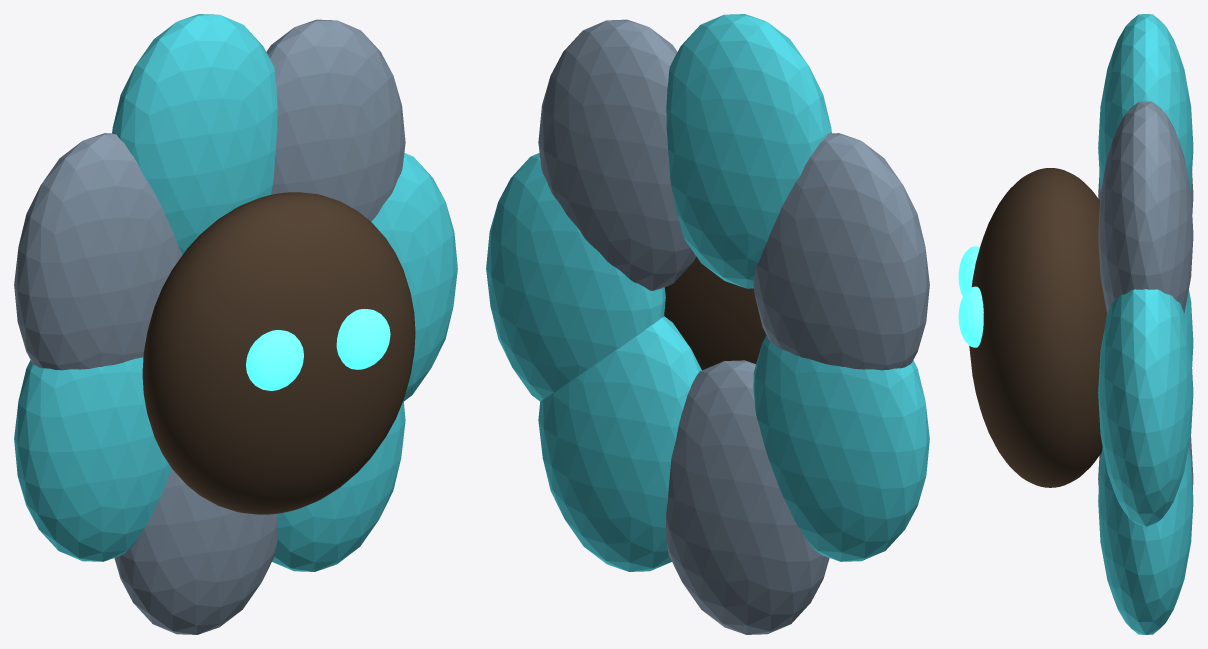
The model's file is aberration_v8.glb.
The picture shows the model from 3 angles, left to right: view 1: azimuth 30°, elevation 25°; view 2: azimuth 150°, elevation 25°; view 3: azimuth 270°, elevation 25°; orthographic projection. The views are drawn at different scales.
Parts seen in each view (by area): view 1: MIRROR_CORE_SECONDARY, MIRROR_SHARD_PRIMARY.001, MIRROR_SHARD_ACCENT.001, MIRROR_SHARD_ACCENT.002, MIRROR_SHARD_PRIMARY, MIRROR_SHARD_PRIMARY.002, MIRROR_SHARD_ACCENT, MIRROR_SHARD_ACCENT.003, EYE_EMISSIVE, EYE_EMISSIVE.001; view 2: MIRROR_SHARD_PRIMARY.001, MIRROR_SHARD_ACCENT.001, MIRROR_SHARD_PRIMARY, MIRROR_SHARD_ACCENT.002, MIRROR_SHARD_PRIMARY.002, MIRROR_SHARD_ACCENT.003, MIRROR_SHARD_ACCENT, MIRROR_CORE_SECONDARY; view 3: MIRROR_CORE_SECONDARY, MIRROR_SHARD_ACCENT, MIRROR_SHARD_PRIMARY, MIRROR_SHARD_ACCENT.003, MIRROR_SHARD_ACCENT.001, EYE_EMISSIVE.001, EYE_EMISSIVE, MIRROR_SHARD_ACCENT.002.
Boxes of the visible parts, box(x1,y1,x2,y2) form: MIRROR_CORE_SECONDARY: box(142, 192, 415, 514); MIRROR_SHARD_PRIMARY.001: box(14, 133, 182, 370); MIRROR_SHARD_ACCENT.001: box(112, 14, 277, 254); MIRROR_SHARD_ACCENT.002: box(14, 357, 171, 561); MIRROR_SHARD_PRIMARY: box(266, 19, 405, 221); MIRROR_SHARD_PRIMARY.002: box(114, 468, 277, 634); MIRROR_SHARD_ACCENT: box(371, 153, 457, 401); MIRROR_SHARD_ACCENT.003: box(272, 401, 405, 571); EYE_EMISSIVE: box(246, 330, 303, 390); EYE_EMISSIVE.001: box(336, 309, 390, 369); MIRROR_SHARD_PRIMARY.001: box(753, 133, 929, 370); MIRROR_SHARD_ACCENT.001: box(666, 14, 831, 288); MIRROR_SHARD_PRIMARY: box(538, 19, 696, 290); MIRROR_SHARD_ACCENT.002: box(753, 335, 929, 561); MIRROR_SHARD_PRIMARY.002: box(666, 360, 829, 634); MIRROR_SHARD_ACCENT.003: box(538, 316, 701, 571); MIRROR_SHARD_ACCENT: box(486, 153, 665, 401); MIRROR_CORE_SECONDARY: box(664, 256, 766, 370); MIRROR_CORE_SECONDARY: box(969, 168, 1106, 487); MIRROR_SHARD_ACCENT: box(1098, 289, 1193, 526); MIRROR_SHARD_PRIMARY: box(1098, 101, 1193, 313); MIRROR_SHARD_ACCENT.003: box(1098, 447, 1193, 634); MIRROR_SHARD_ACCENT.001: box(1098, 14, 1193, 190); EYE_EMISSIVE.001: box(958, 286, 983, 347); EYE_EMISSIVE: box(958, 246, 979, 296); MIRROR_SHARD_ACCENT.002: box(1184, 290, 1193, 366).
Size of the model in its own units: 1.42 by 1.91 by 0.69.
